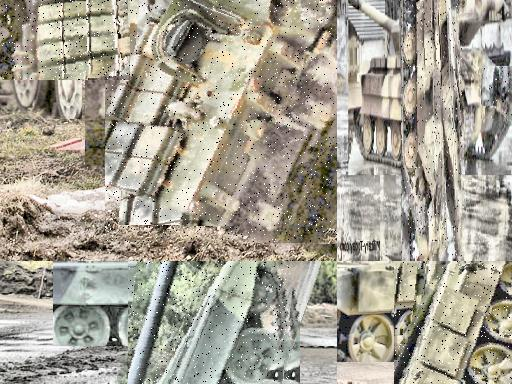tanks: (106, 1, 338, 243), (402, 3, 463, 261), (165, 262, 292, 384), (395, 262, 512, 384), (1, 1, 131, 81), (482, 68, 512, 121)
